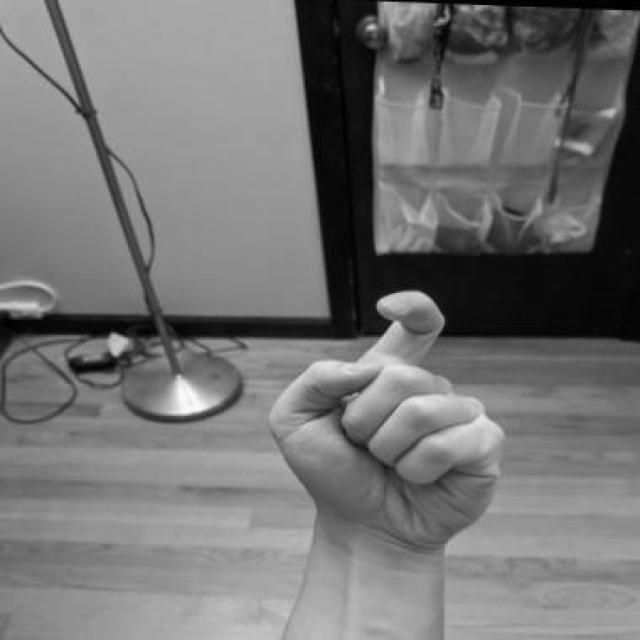X: (262, 278, 514, 552)
